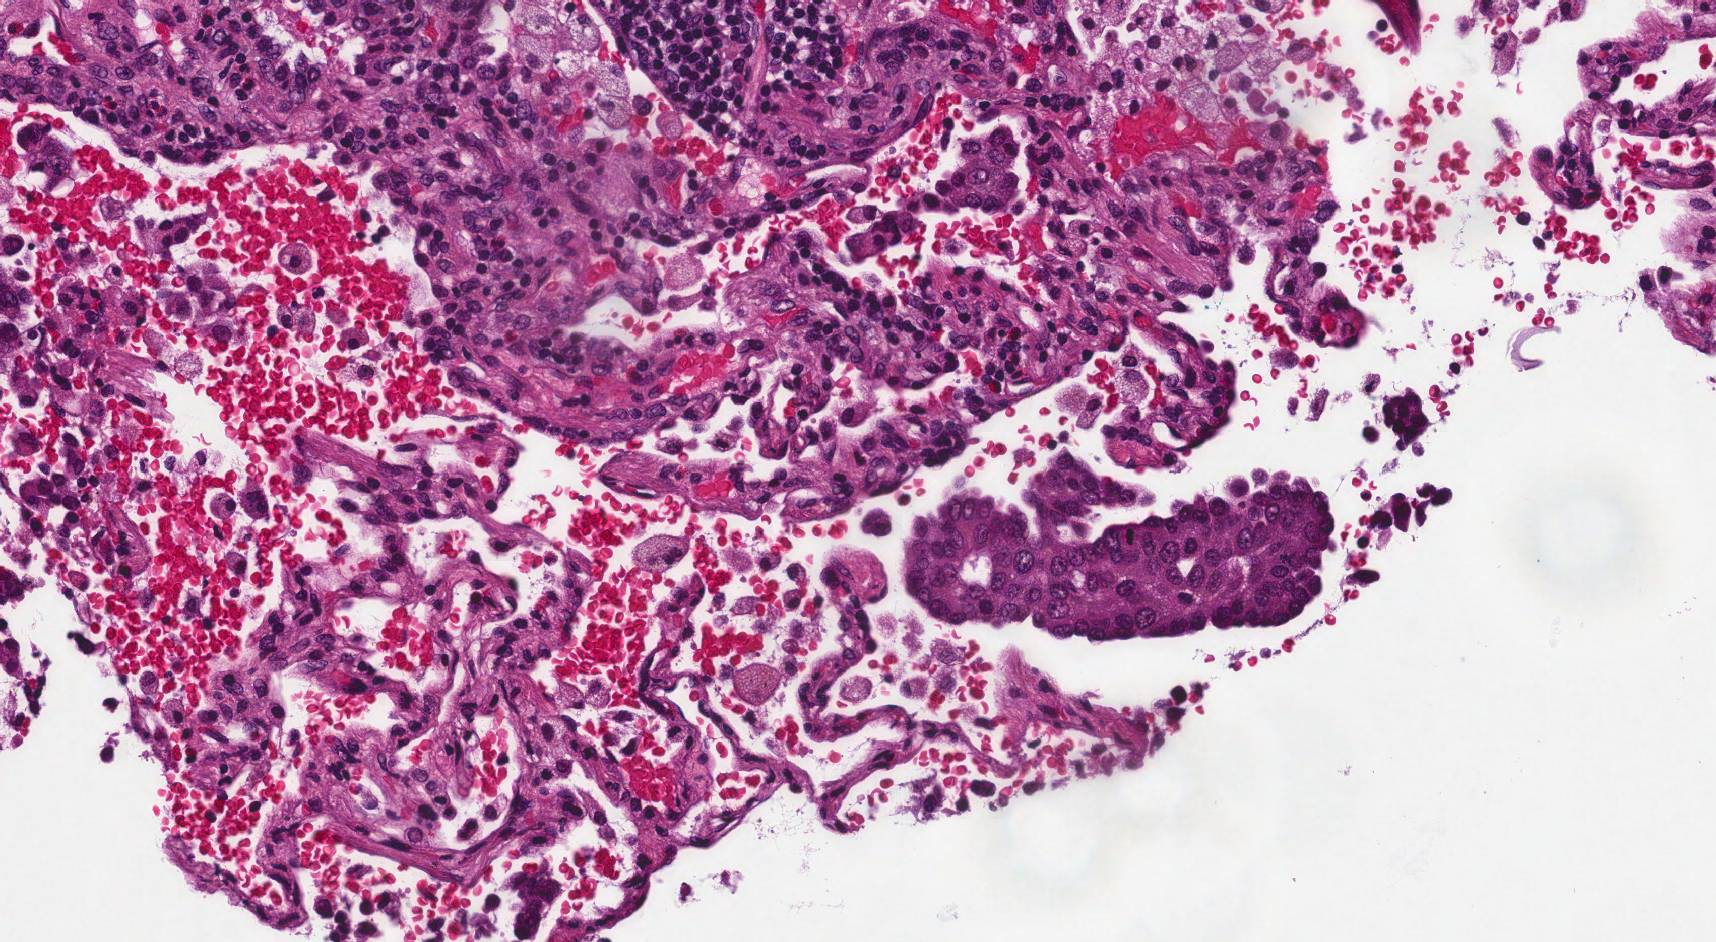stas: (902, 450, 1331, 641), (899, 126, 1021, 217)
